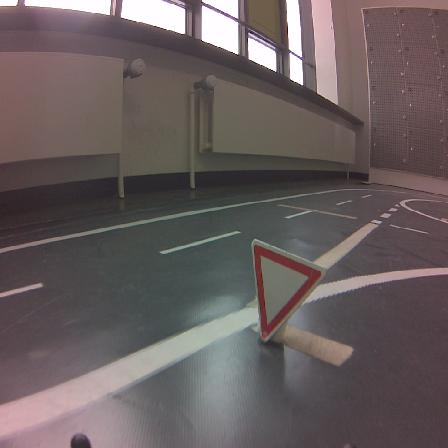GIVE_WAY: (252, 240, 325, 341)
